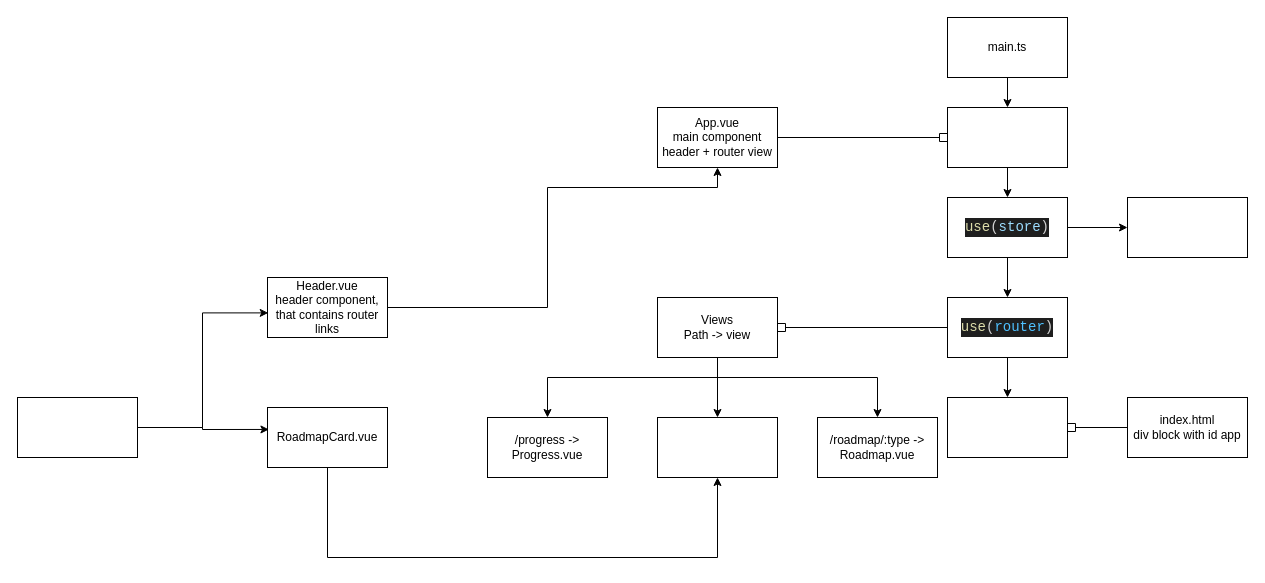
Some shapes in this 1265 by 583 pixel diagram are drawn without their labels. The shapes that lost their labels are listed below. From the top down, each one's centre as x and y in pixels, then its label:
At point (1007, 137): "createApp ( App )".
At point (1187, 227): "vuex state".
At point (77, 427): "Components".
At point (717, 447): "/ -> Home.vue".
At point (1007, 427): "mount ( '#app' )".
